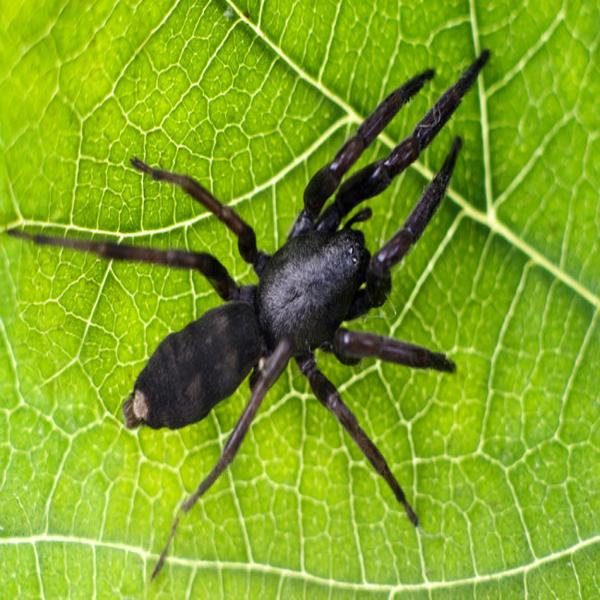White-Tailed_Spider: (13, 51, 493, 575)
